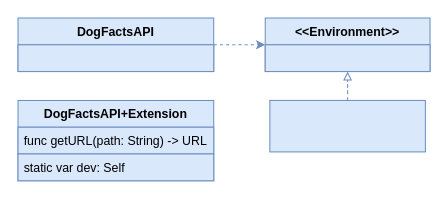
This 448x202 diagram has some shape labels left out. Each missing label, with the box of its shape:
DogFactsEnvironment: (269, 99, 425, 152)
let environment: Environment: (17, 44, 214, 72)
var baseURL: String { get }: (264, 44, 430, 72)
